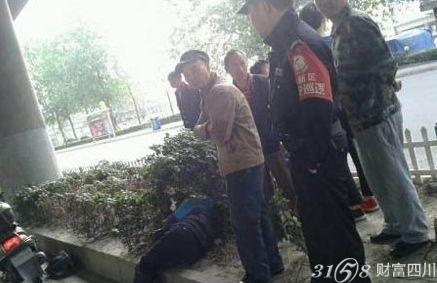falling: (110, 179, 229, 283)
